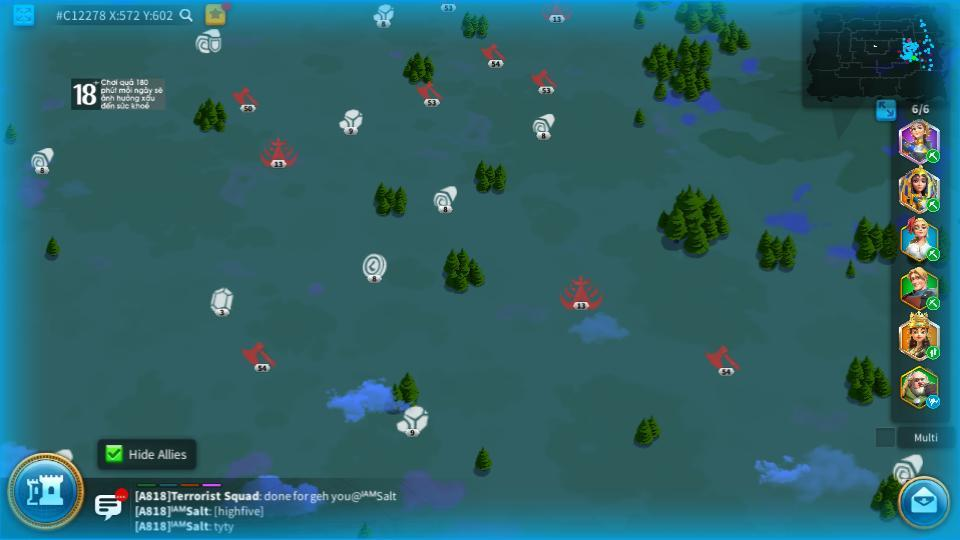gem-z-out: (209, 287, 234, 314)
march_farming: (923, 197, 940, 212), (925, 345, 941, 359), (925, 297, 941, 310), (925, 248, 941, 261), (924, 149, 939, 162)
march_idle: (925, 396, 942, 408)
